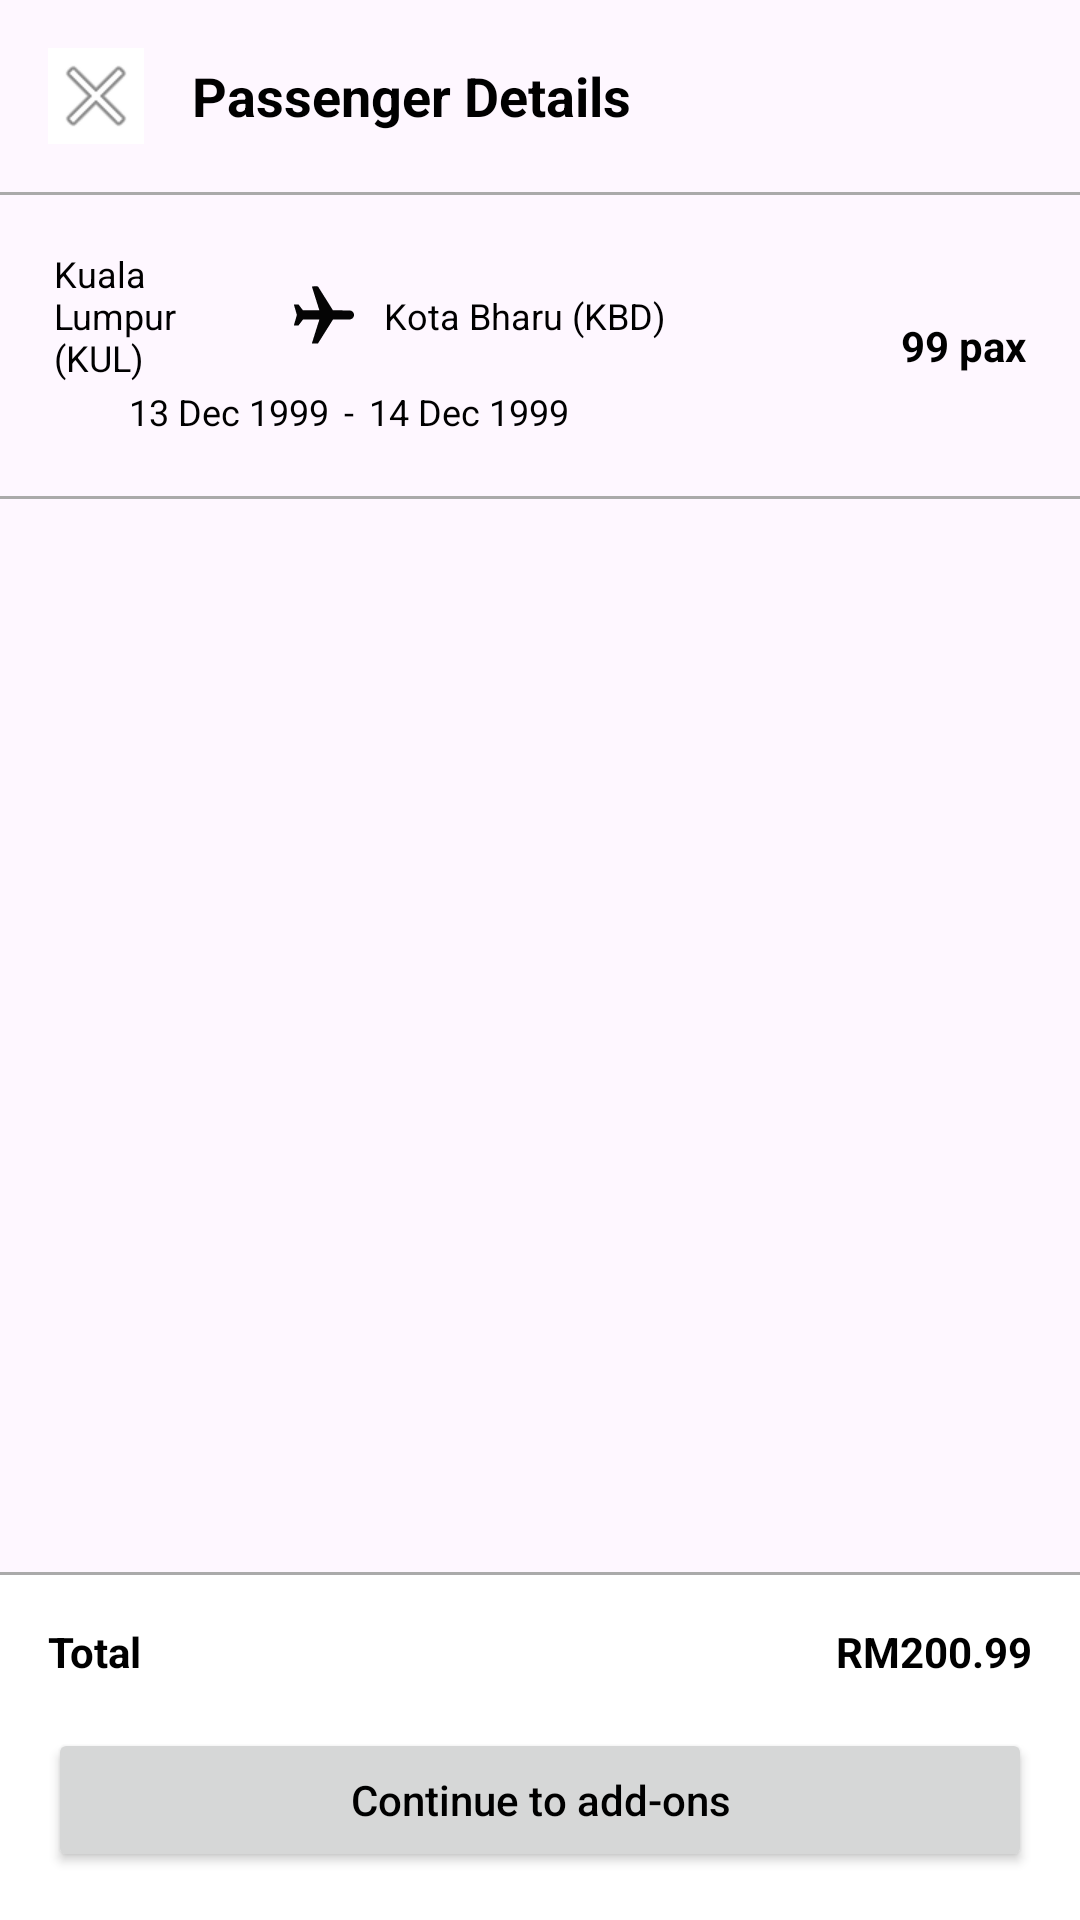

Point at icon controls on the screen. Image size 1080 x 1920, points as (x=x, y=y).
airplane straight: (x=324, y=315)
close clear cancel: (x=96, y=96)
